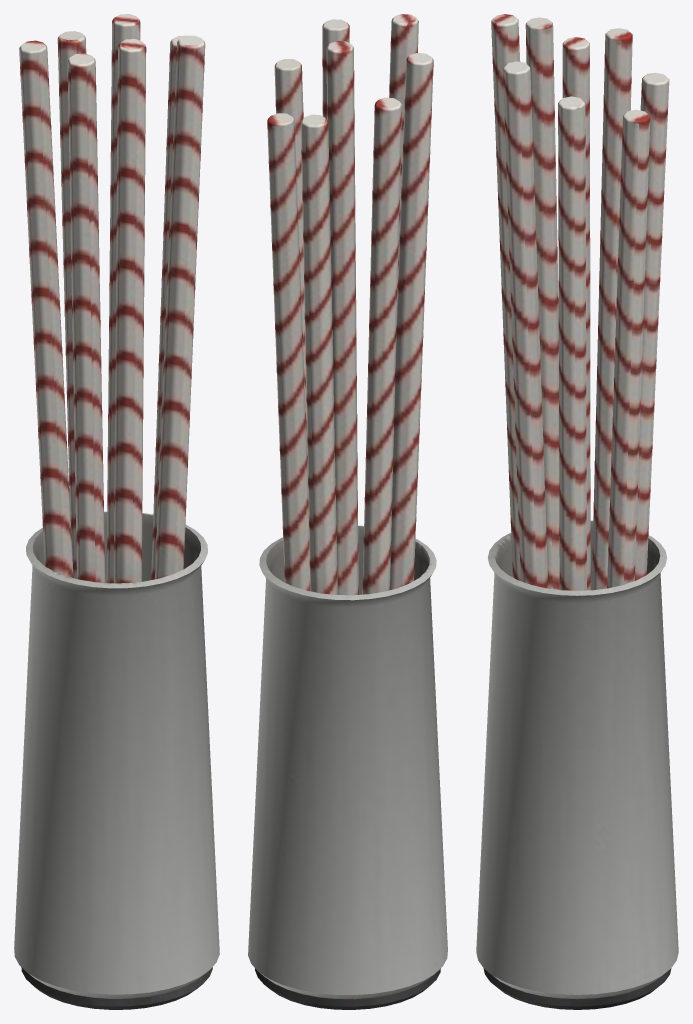
The model's file is StoreStrawHolder.fbx.
The picture shows the model from 3 angles, left to right: view 1: azimuth 30°, elevation 25°; view 2: azimuth 150°, elevation 25°; view 3: azimuth 270°, elevation 25°; orthographic projection. The views are drawn at different scales.
Visible parts, largest first — view 1: StoreStrawHolder; view 2: StoreStrawHolder; view 3: StoreStrawHolder.
Part boxes in pixels (box(x1,y1,x2,y2)): StoreStrawHolder: box(14, 14, 219, 1009); StoreStrawHolder: box(248, 14, 447, 1009); StoreStrawHolder: box(476, 14, 678, 1009).
Size of the model in its own units: 0.044 by 0.2263 by 0.044.
